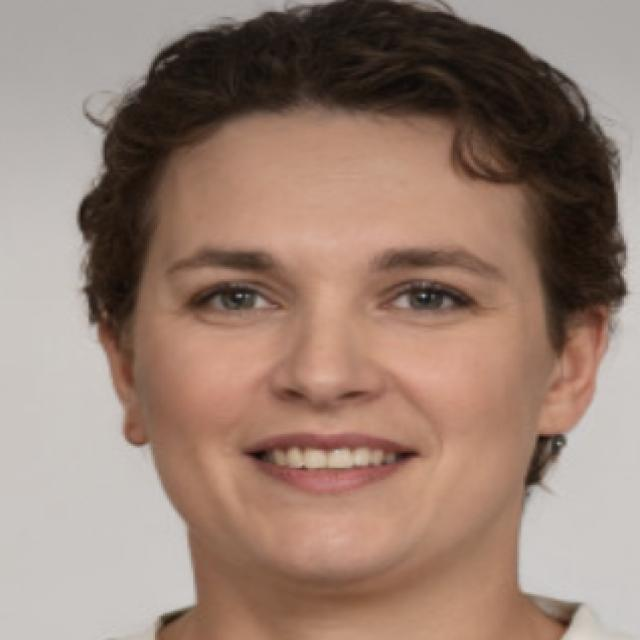happy: (53, 17, 624, 604)
